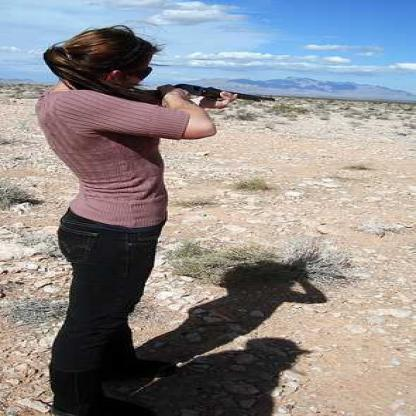Heavy Gun: (104, 81, 275, 106)
Person: (36, 25, 218, 416)
